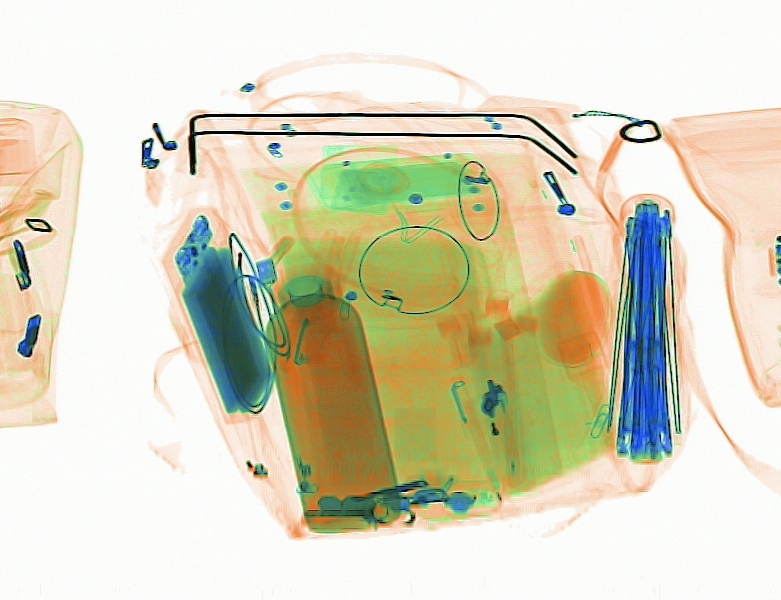lighter: (478, 381, 522, 482)
